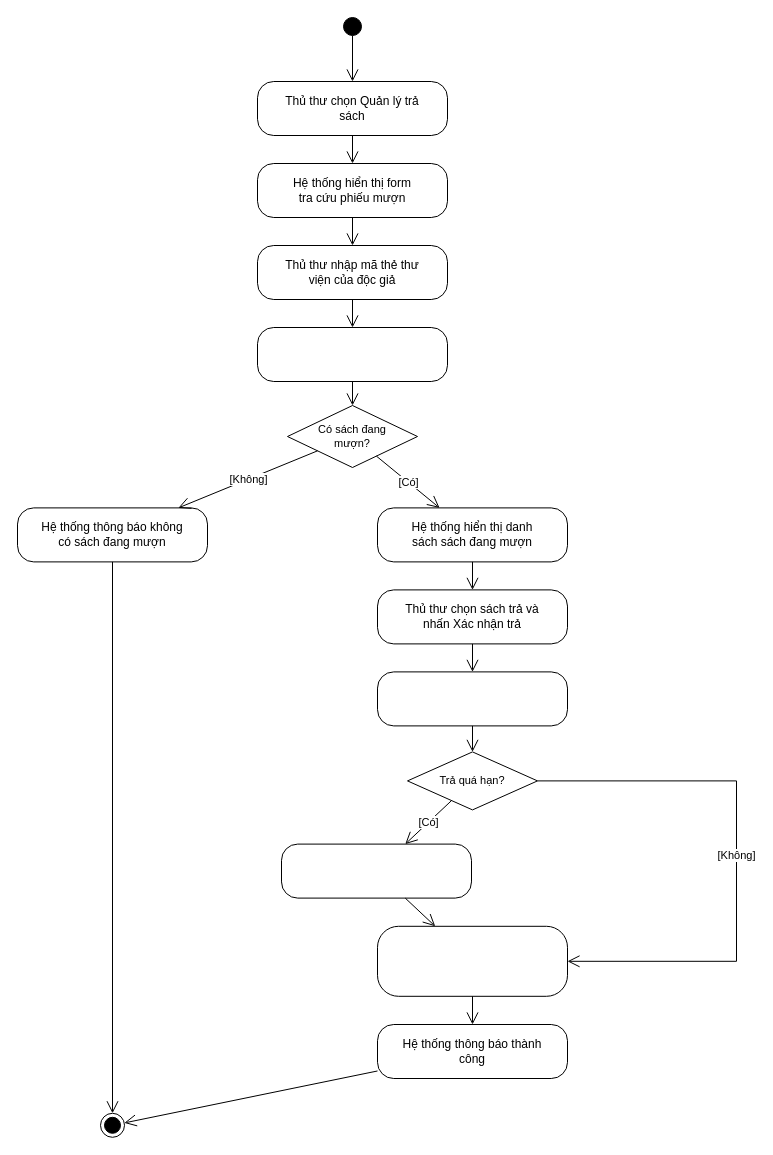
Some shapes in this 773 by 1155 pixel diagram are drawn without their labels. The box of each missing label's shape, as (x1, y1, x2, y2) in pixels:
Hệ thống cập nhật phiếu mượn thành đã trả, tăng số lượng sách: (376, 925, 568, 996)
Hệ thống ghi ngày trả: (376, 671, 568, 726)
Hệ thống ghi nhận và hiển thị tình trạng quá hạn: (280, 843, 472, 898)
Hệ thống tìm các sách độc giả đang mượn: (256, 326, 448, 382)
